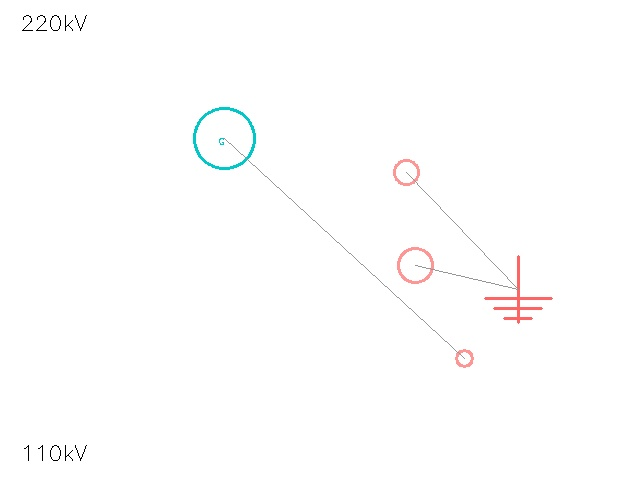disconnect_switch: (381, 147, 431, 197)
generator: (194, 108, 254, 168)
ground: (485, 256, 551, 322)
reactor: (381, 231, 449, 299)
voltage_transformer: (447, 341, 481, 375)
